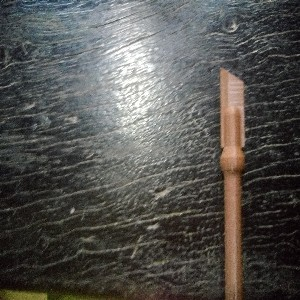cutter: (218, 65, 247, 300)
